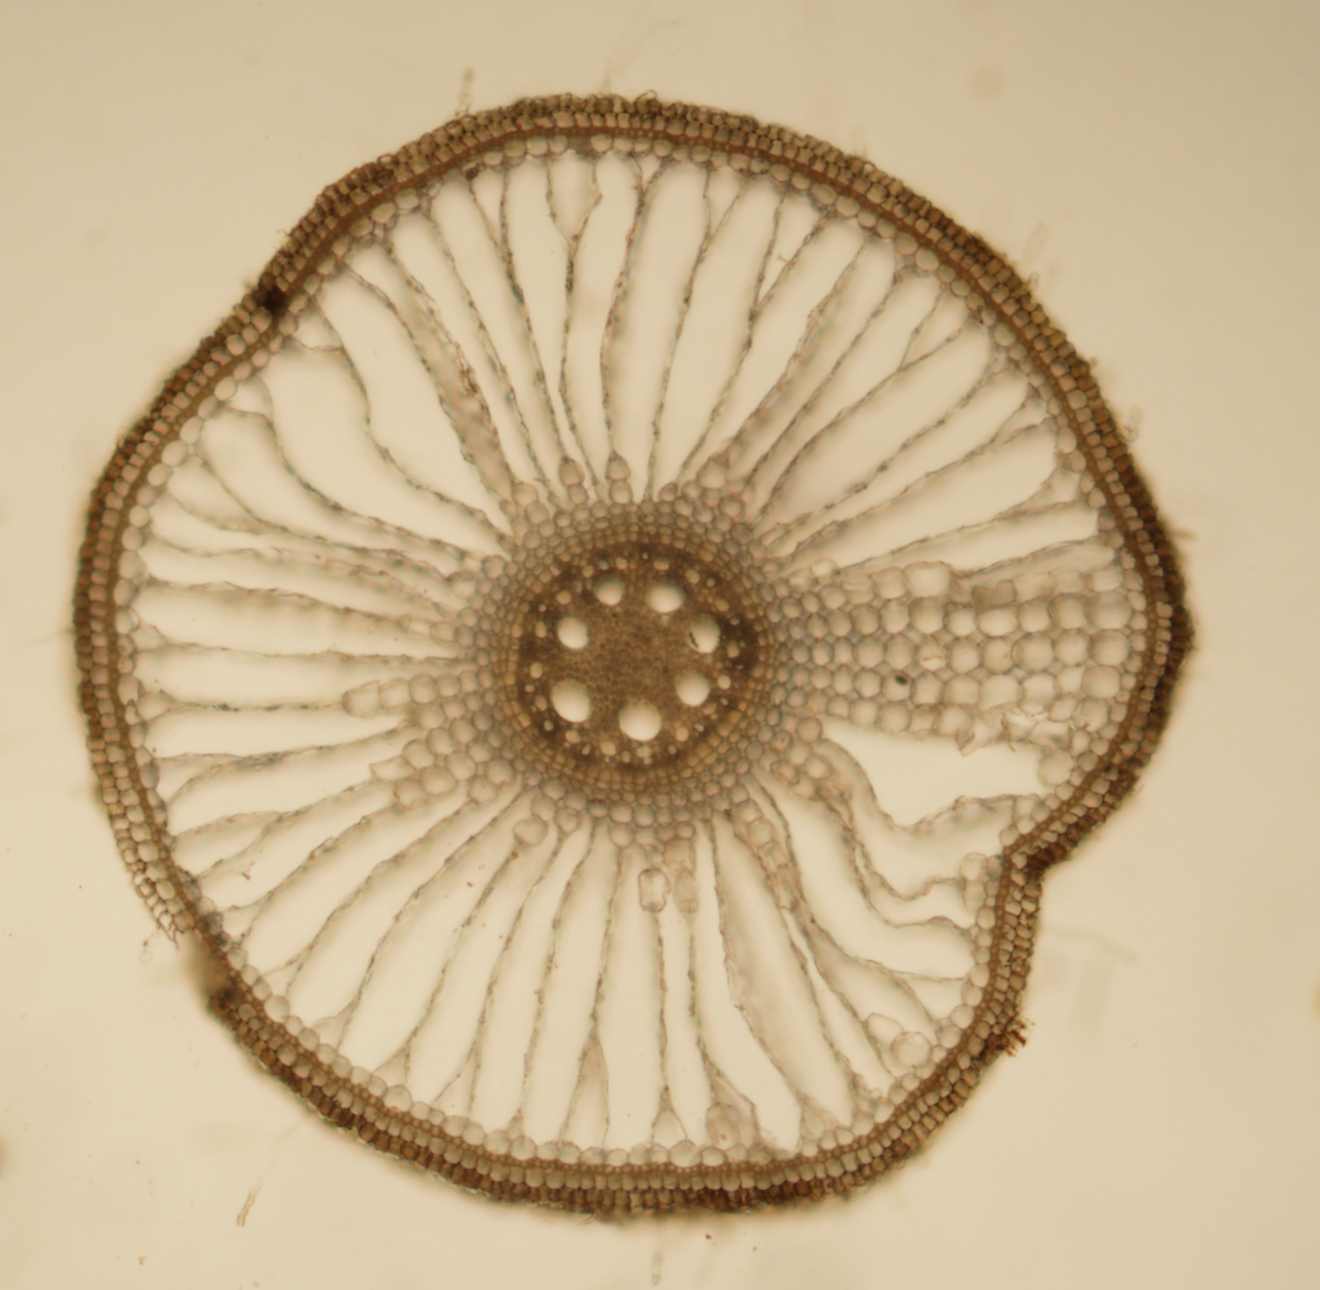lm: (618, 696, 662, 741), (550, 678, 593, 722), (684, 613, 721, 654), (674, 669, 711, 706), (645, 578, 687, 612), (555, 615, 589, 649), (593, 573, 625, 605)
